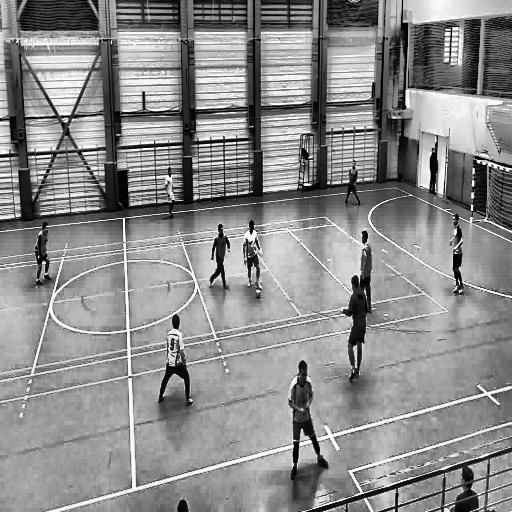ball: (254, 288, 262, 301)
player: (288, 361, 329, 483), (158, 313, 193, 411), (339, 276, 368, 382), (208, 221, 231, 292), (242, 218, 264, 290), (449, 212, 465, 298), (33, 219, 53, 286), (360, 226, 372, 317), (164, 165, 177, 223), (345, 160, 361, 207), (429, 146, 439, 197)
